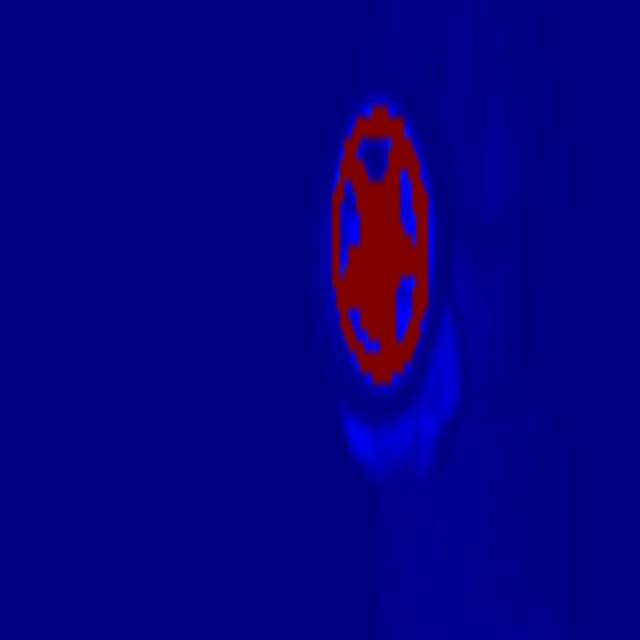circle: (312, 92, 448, 399)
